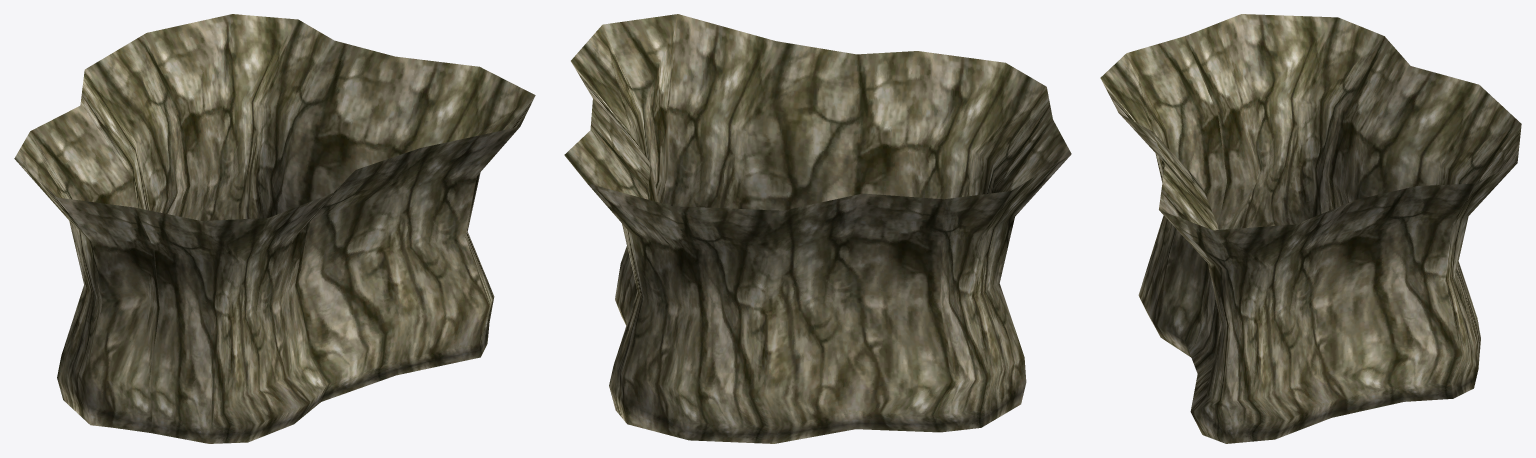
The model's file is CB_NEWPLAYSURFACE_CB_PLAYSURFACE50.fbx.
The picture shows the model from 3 angles, left to right: view 1: azimuth 30°, elevation 25°; view 2: azimuth 150°, elevation 25°; view 3: azimuth 270°, elevation 25°; orthographic projection. The views are drawn at different scales.
Parts seen in each view (by area): view 1: CB_NEWPLAYSURFACE_CB_PLAYSURFACE50; view 2: CB_NEWPLAYSURFACE_CB_PLAYSURFACE50; view 3: CB_NEWPLAYSURFACE_CB_PLAYSURFACE50.
Boxes of the visible parts, x1=… form: CB_NEWPLAYSURFACE_CB_PLAYSURFACE50: x1=14, y1=14, x2=535, y2=443; CB_NEWPLAYSURFACE_CB_PLAYSURFACE50: x1=564, y1=14, x2=1071, y2=443; CB_NEWPLAYSURFACE_CB_PLAYSURFACE50: x1=1100, y1=14, x2=1521, y2=443.
Bounding box in the file's own units: 120813 × 60630 × 99409.
Materials: 2 (2 with a texture image).
